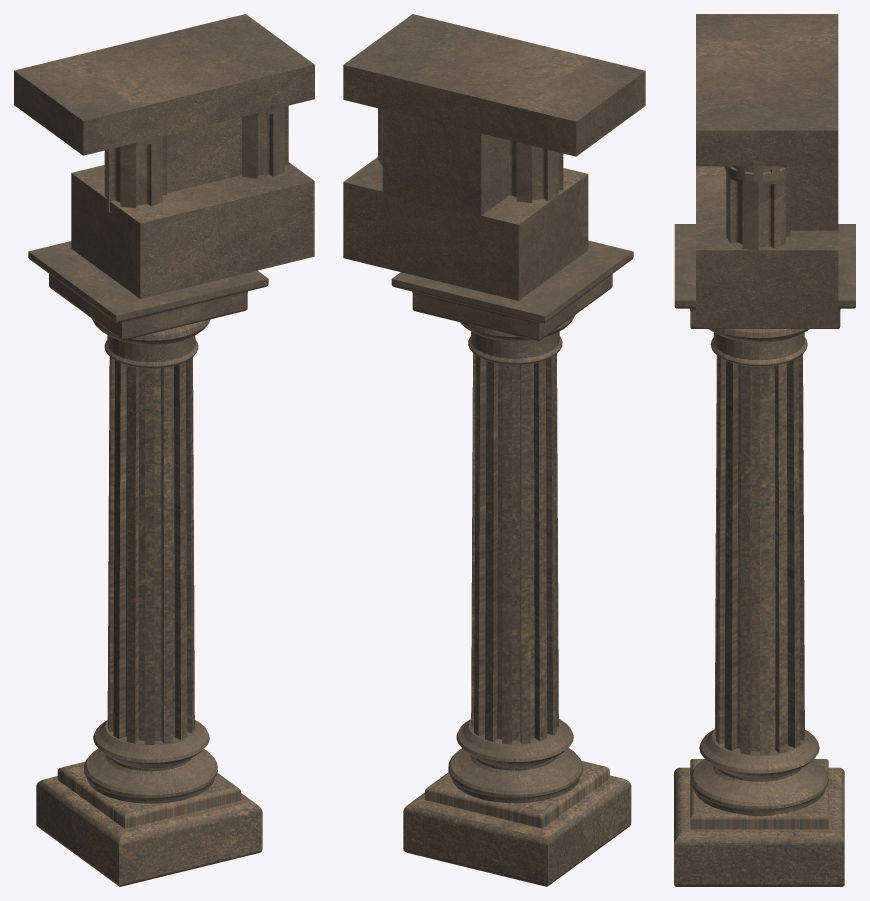
The model's file is doric_pillar.glb.
3 renders of one model, left to right at view 1: azimuth 30°, elevation 25°; view 2: azimuth 150°, elevation 25°; view 3: azimuth 270°, elevation 25°, orthographic. The views are drawn at different scales.
Visible parts, largest first — view 1: Cylinder.016, Cube.019, Cube.018, Cube.016, Cube.017, Cylinder.018, Cube.020, Cylinder.021, Cylinder.019, Cylinder.023, Cylinder.017; view 2: Cylinder.016, Cube.019, Cube.018, Cube.016, Cube.020, Cube.017, Cylinder.018, Cylinder.017, Cylinder.021, Cylinder.019; view 3: Cylinder.016, Cube.019, Cube.018, Cube.016, Cylinder.018, Cylinder.023, Cube.017, Cylinder.019, Cube.020, Cylinder.017, Cylinder.024.
Part boxes in pixels (left/top/right/bottom): Cylinder.016: left=107, top=357, right=194, bottom=744; Cube.019: left=14, top=14, right=314, bottom=155; Cube.018: left=71, top=162, right=314, bottom=298; Cube.016: left=36, top=762, right=262, bottom=886; Cube.017: left=28, top=241, right=268, bottom=340; Cylinder.018: left=84, top=748, right=217, bottom=803; Cube.020: left=167, top=117, right=241, bottom=192; Cylinder.021: left=104, top=135, right=166, bottom=215; Cylinder.019: left=91, top=318, right=210, bottom=368; Cylinder.023: left=242, top=105, right=288, bottom=178; Cylinder.017: left=93, top=720, right=209, bottom=768; Cylinder.016: left=471, top=353, right=558, bottom=744; Cube.019: left=343, top=14, right=645, bottom=156; Cube.018: left=343, top=157, right=588, bottom=300; Cube.016: left=403, top=761, right=631, bottom=886; Cube.020: left=382, top=109, right=508, bottom=218; Cube.017: left=391, top=240, right=633, bottom=341; Cylinder.018: left=448, top=748, right=582, bottom=803; Cylinder.017: left=456, top=719, right=573, bottom=767; Cylinder.021: left=509, top=140, right=563, bottom=210; Cylinder.019: left=460, top=315, right=575, bottom=365; Cylinder.016: left=714, top=354, right=804, bottom=755; Cube.019: left=696, top=14, right=838, bottom=166; Cube.018: left=696, top=166, right=838, bottom=328; Cube.016: left=674, top=759, right=844, bottom=886; Cylinder.018: left=690, top=758, right=828, bottom=816; Cylinder.023: left=726, top=172, right=790, bottom=263; Cube.017: left=674, top=224, right=855, bottom=328; Cylinder.019: left=709, top=329, right=809, bottom=366; Cube.020: left=790, top=166, right=838, bottom=230; Cylinder.017: left=699, top=729, right=819, bottom=779; Cylinder.024: left=724, top=162, right=791, bottom=181.
Bounding box in the file's own units: 0.4292 × 1.35 × 0.2824.
Materials: 10 (10 with a texture image).
